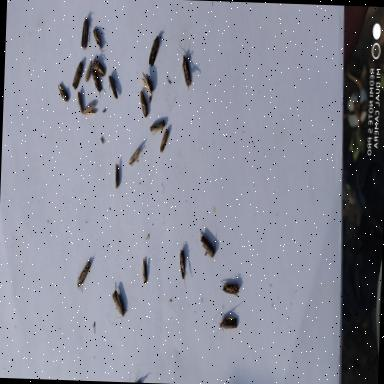pbw: (173, 36, 194, 92), (210, 312, 239, 344), (74, 255, 94, 296), (196, 225, 218, 260), (109, 288, 129, 322), (148, 26, 164, 68), (88, 66, 104, 100), (135, 84, 149, 119), (78, 13, 90, 52), (177, 247, 187, 290), (218, 280, 240, 298), (139, 70, 154, 96), (71, 60, 83, 92), (127, 146, 143, 168), (55, 80, 69, 104), (82, 98, 98, 119), (106, 74, 118, 102), (90, 26, 102, 54), (92, 56, 106, 79), (158, 128, 169, 156), (148, 118, 165, 136), (84, 58, 93, 84), (76, 87, 84, 115), (140, 257, 148, 285), (112, 162, 119, 190), (98, 136, 104, 146)
